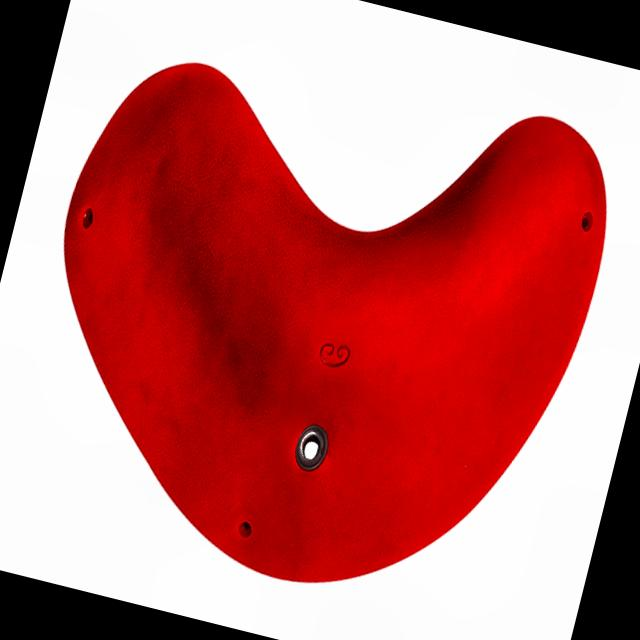Hold: (42, 44, 617, 597)
